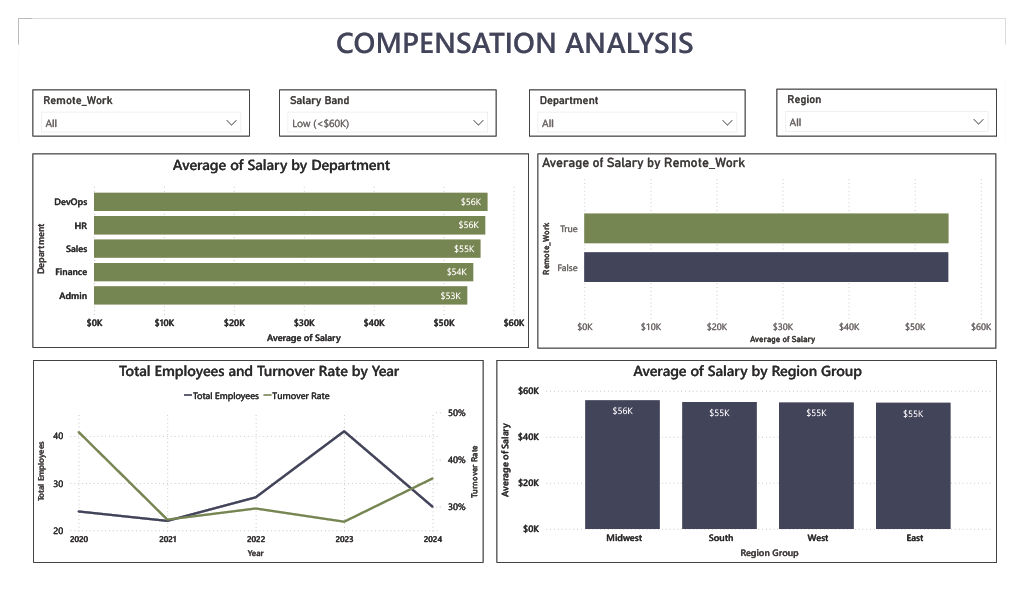

Layout of this report page (visuals, bound fields, positions):
{"tool":"powerbi","page":{"name":"Compensation","canvas":[1280,720],"ordinal":1},"visuals":[{"type":"textbox","box":[18,0,1262,78],"z":0},{"type":"columnChart","fields":{"Category":["Sheet4.Region Group"],"Y":["Avg(Sheet4.Salary)"]},"box":[620,442.9,648.6,262.9],"z":1000},{"type":"barChart","fields":{"Category":["Sheet4.Department"],"Y":["Avg(Sheet4.Salary)"]},"box":[18.3,175,643.3,251.7],"z":2000},{"type":"lineChart","fields":{"Category":["Sheet4.Join_Date.Variation.Date Hierarchy.Year"],"Y":["Sheet4.Total Employees"],"Y2":["Sheet4.Turnover Rate"]},"box":[18.6,442.9,584.3,262.9],"z":3000},{"type":"barChart","fields":{"Y":["Avg(Sheet4.Salary)"],"Category":["Sheet4.Remote_Work"]},"box":[673.3,175,595,253.3],"z":4000},{"type":"slicer","fields":{"Values":["Sheet4.Department"]},"box":[661.7,91.7,281.7,61.7],"z":5000},{"type":"slicer","fields":{"Values":["Sheet4.Region"]},"box":[983.3,91.1,285.6,62.2],"z":6000},{"type":"slicer","fields":{"Values":["Sheet4.Remote_Work"]},"box":[18.3,91.7,281.7,61.7],"z":7000},{"type":"slicer","fields":{"Values":["Sheet4.Salary Band"]},"box":[338.3,91.7,281.7,61.7],"z":8000}]}

Visuals, with their boxes in screenshot pixels (x1, y1, x2, y2), scaled from the page's 1280x720 canvas onto the 1024x592 screenshot:
textbox: [left=14, top=0, right=1023, bottom=64]
columnChart - Sheet4.Region Group x Avg(Sheet4.Salary): [left=496, top=364, right=1015, bottom=580]
barChart - Sheet4.Department x Avg(Sheet4.Salary): [left=15, top=144, right=529, bottom=351]
lineChart - Sheet4.Join_Date.Variation.Date Hierarchy.Year x Sheet4.Total Employees: [left=15, top=364, right=482, bottom=580]
barChart - Avg(Sheet4.Salary) x Sheet4.Remote_Work: [left=539, top=144, right=1015, bottom=352]
slicer - Sheet4.Department: [left=529, top=75, right=755, bottom=126]
slicer - Sheet4.Region: [left=787, top=75, right=1015, bottom=126]
slicer - Sheet4.Remote_Work: [left=15, top=75, right=240, bottom=126]
slicer - Sheet4.Salary Band: [left=271, top=75, right=496, bottom=126]
